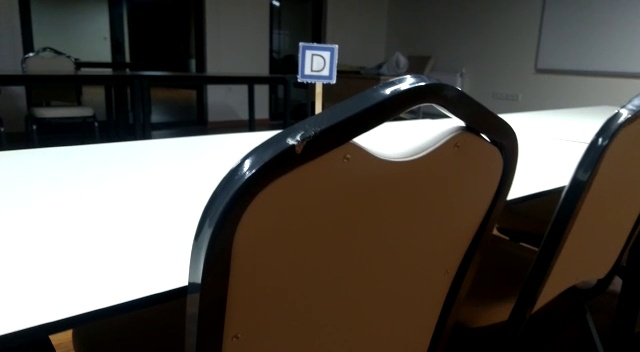durak: (297, 42, 338, 82)
